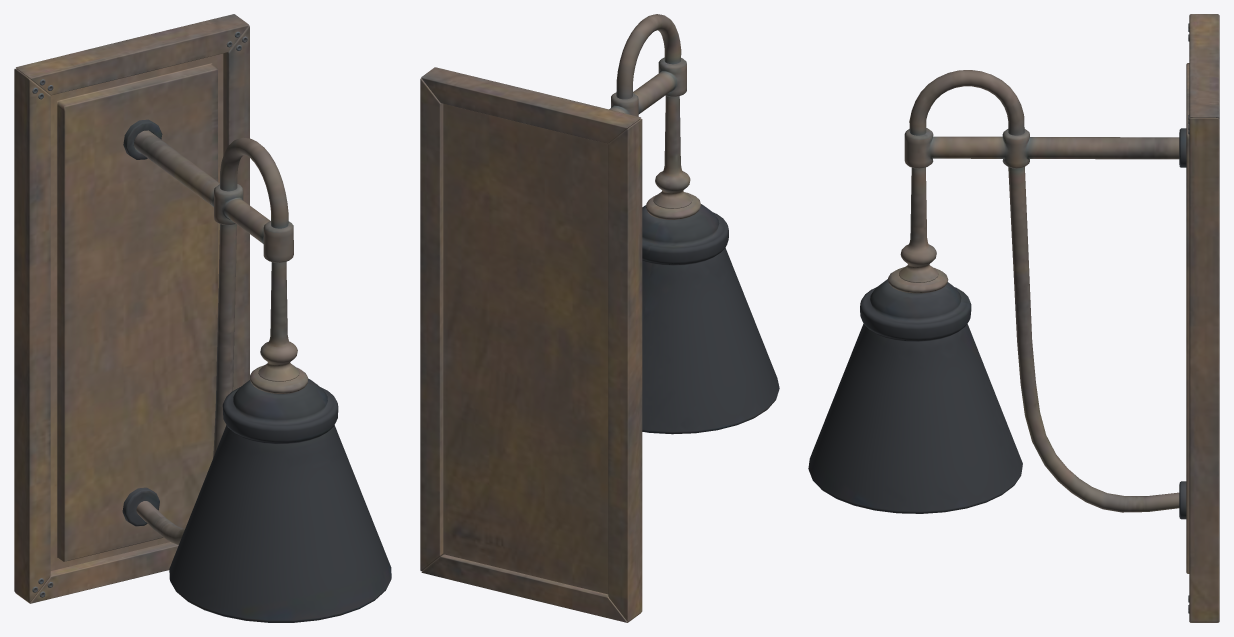
The model's file is industrial_wall_sconce.glb.
3 views of the same model, side by side, from view 1: azimuth 30°, elevation 25°; view 2: azimuth 150°, elevation 25°; view 3: azimuth 270°, elevation 25° (orthographic). The views are drawn at different scales.
Visible parts, largest first — view 1: industrial_wall_sconce; view 2: industrial_wall_sconce; view 3: industrial_wall_sconce.
Part boxes in pixels (<box>): industrial_wall_sconce: <box>14,14,391,622</box>; industrial_wall_sconce: <box>420,14,779,622</box>; industrial_wall_sconce: <box>808,14,1219,622</box>.
Bounding box in the file's own units: 0.1503 × 0.3418 × 0.2516.
Materials: 2 (2 with a texture image).
